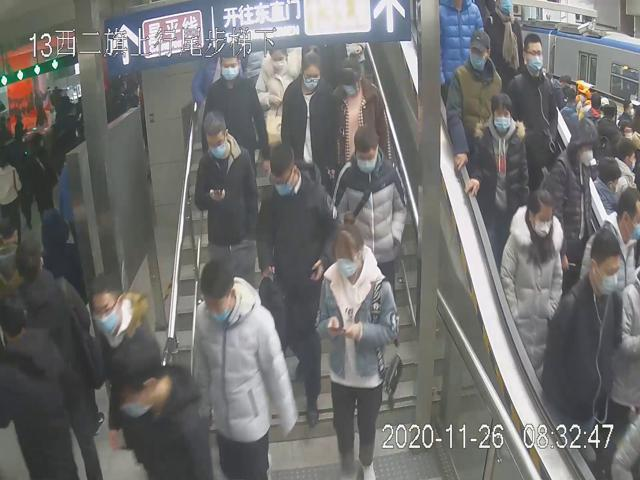person: (254, 142, 338, 431), (191, 258, 299, 473), (315, 212, 400, 479), (498, 186, 565, 389), (332, 124, 407, 291), (193, 106, 260, 286), (461, 91, 530, 246), (503, 30, 562, 183), (445, 28, 503, 176), (330, 49, 393, 168), (278, 45, 335, 169), (200, 53, 264, 157), (254, 42, 302, 149)
